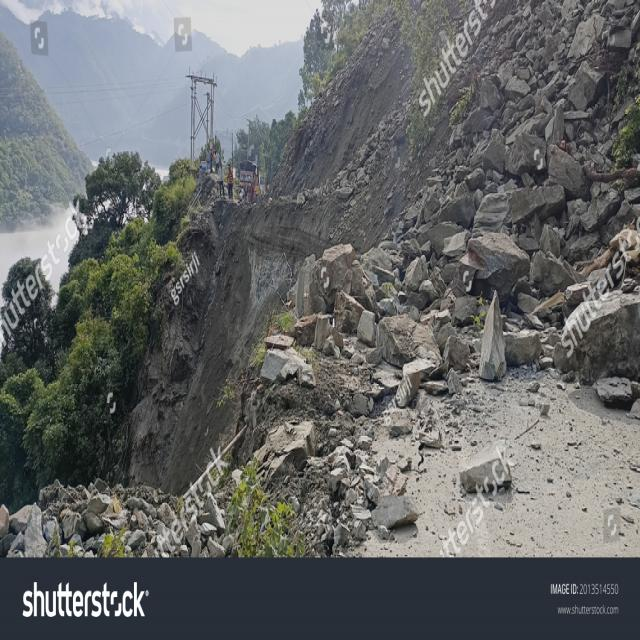landSliding: (137, 79, 640, 536)
